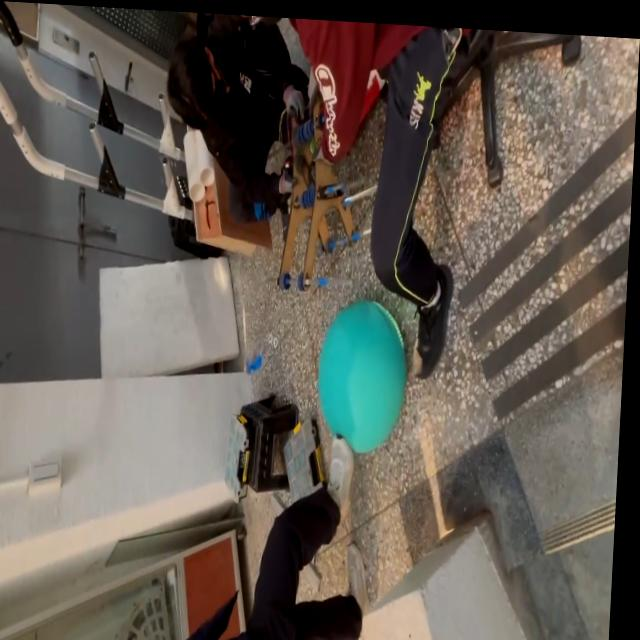ALGAE: (313, 295, 412, 458)
